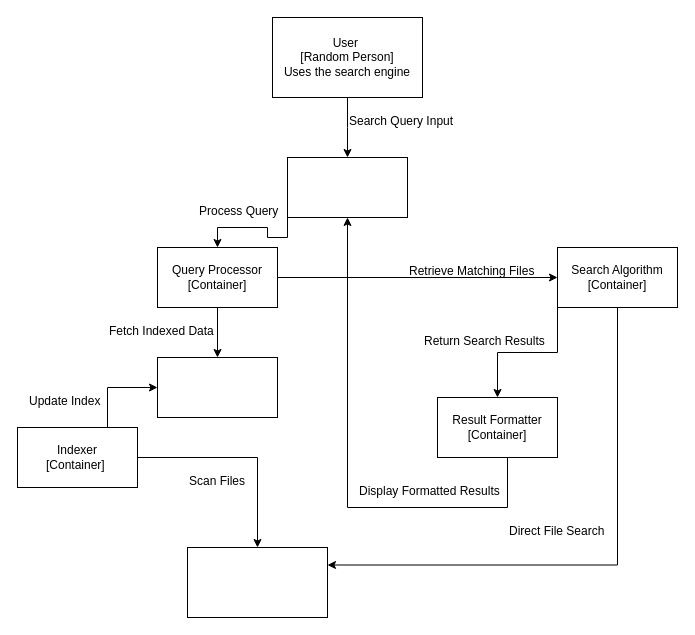
This 695x635 diagram has some shape labels left out. The shapes that lost their labels are listed below. From the top down, each one's box as (x1, y1, x2, y2) in pixels, then its label:
(286, 156, 408, 218): User Interface [Container ]
(156, 356, 278, 418): Index Database [Container ]
(186, 546, 328, 618): File System [Software System] Stores system files
